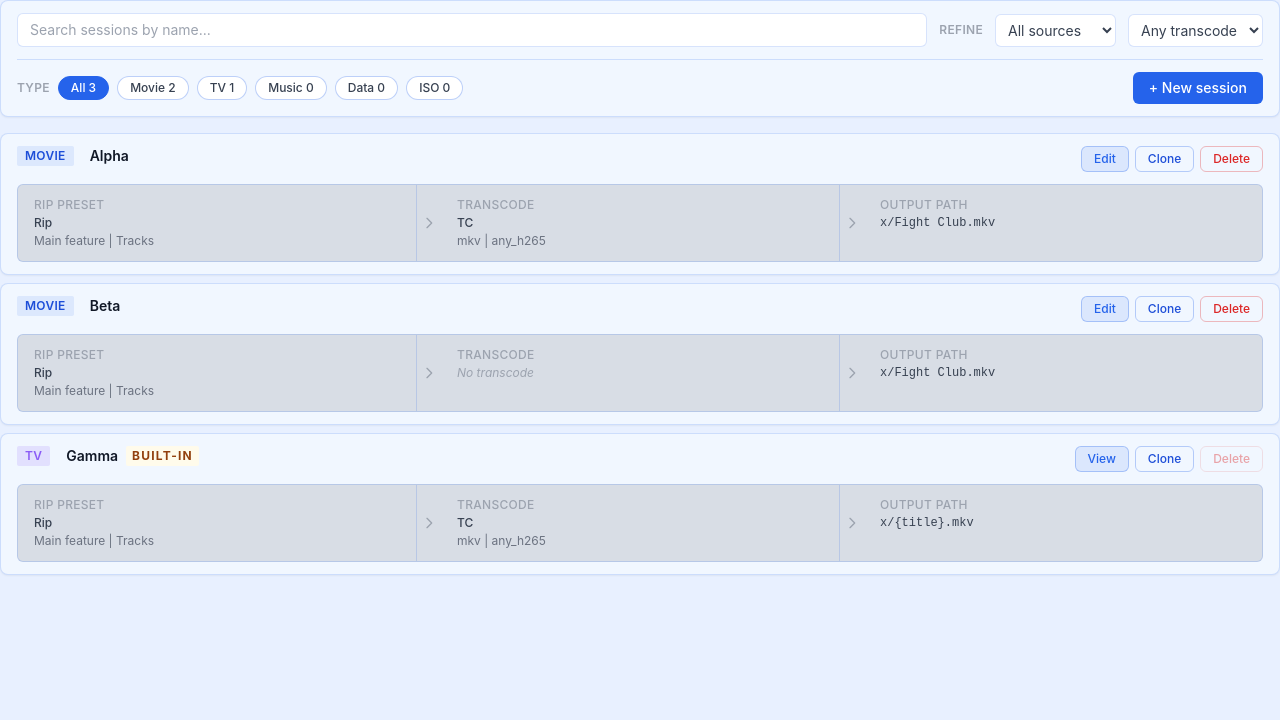
it: source filter narrows by is_builtin
This screenshot has width=1280, height=720.
Select "Built-in only" in the dropdown named "Filter by source" at (1056, 30), box left=995, top=14, right=1116, bottom=46
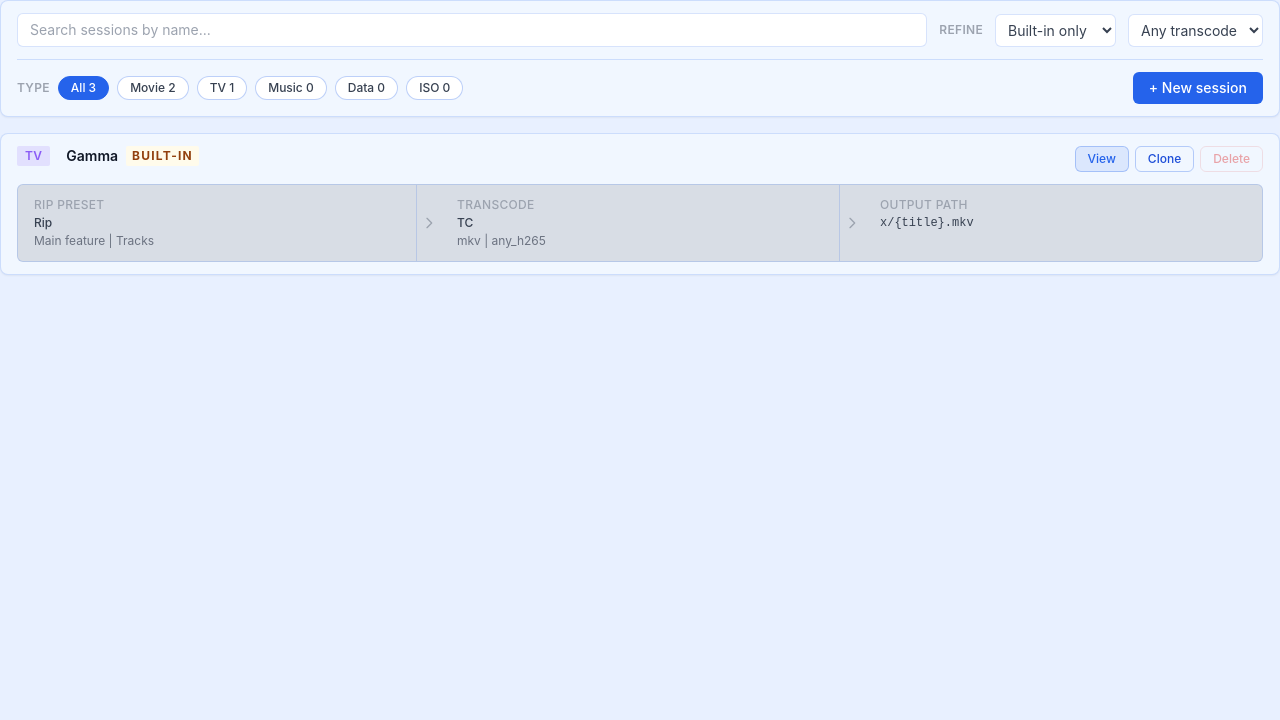
Expected: the text "Gamma" is shown, left=66, top=146, right=118, bottom=166
Now the text "Alpha" is gone
Select "Custom only" in the dropdown named "Filter by source" at (1056, 30), box left=995, top=14, right=1116, bottom=46
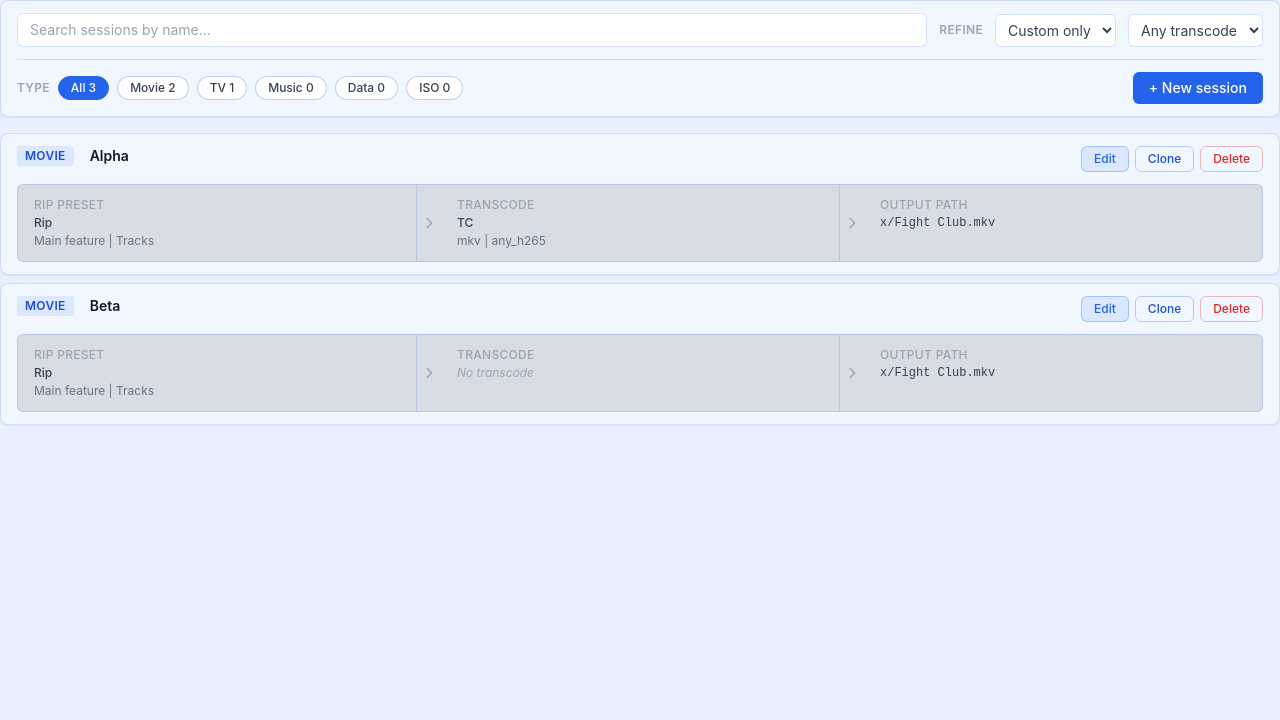
Now the text "Alpha" is shown, box left=90, top=146, right=129, bottom=166
Now the text "Gamma" is gone
